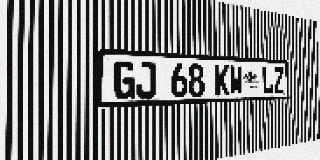6: (170, 63, 188, 98)
8: (188, 64, 204, 97)
G: (114, 60, 135, 100)
J: (136, 61, 156, 99)
K: (215, 65, 229, 96)
L: (262, 66, 273, 94)
W: (229, 65, 243, 95)
Z: (273, 67, 284, 94)
